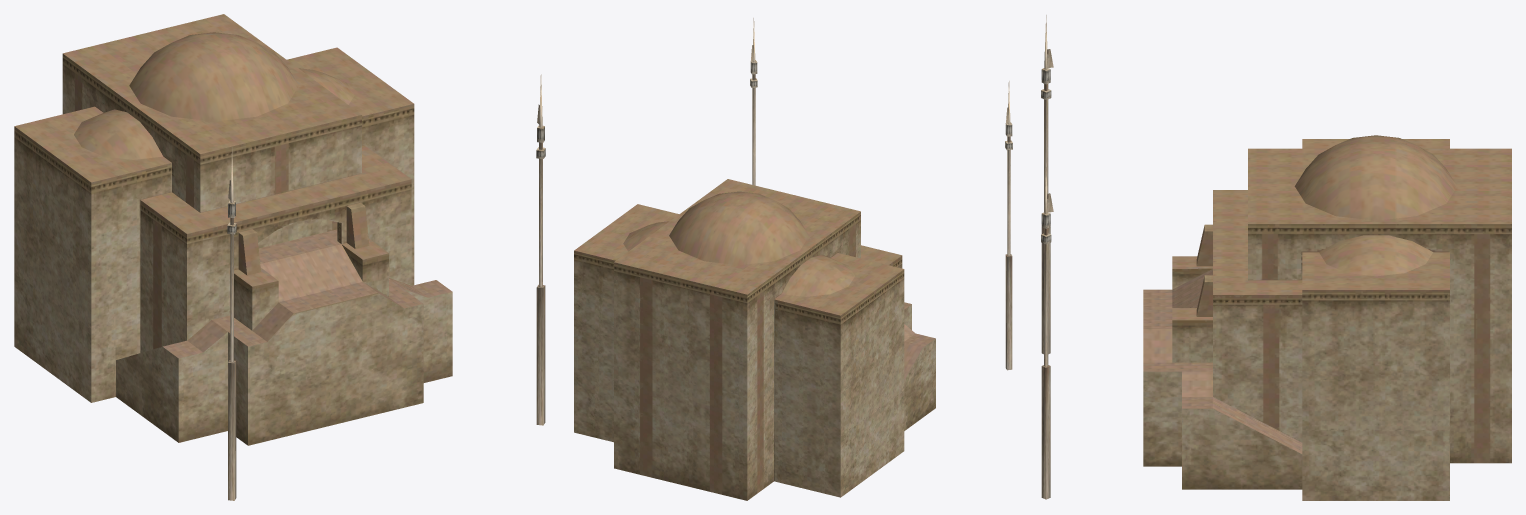
The model's file is ply_tato_capitol_s01_r0_mesh_l3.fbx.
3 views of the same model, side by side, from view 1: azimuth 30°, elevation 25°; view 2: azimuth 150°, elevation 25°; view 3: azimuth 270°, elevation 25° (orthographic). The views are drawn at different scales.
Visible parts, largest first — view 1: mesh_node; view 2: mesh_node; view 3: mesh_node.
Boxes of the visible parts, <box> form: mesh_node: <box>14,14,545,500</box>; mesh_node: <box>574,18,1012,500</box>; mesh_node: <box>1041,15,1511,500</box>.
Size of the model in its own units: 46 by 48.23 by 60.67.
